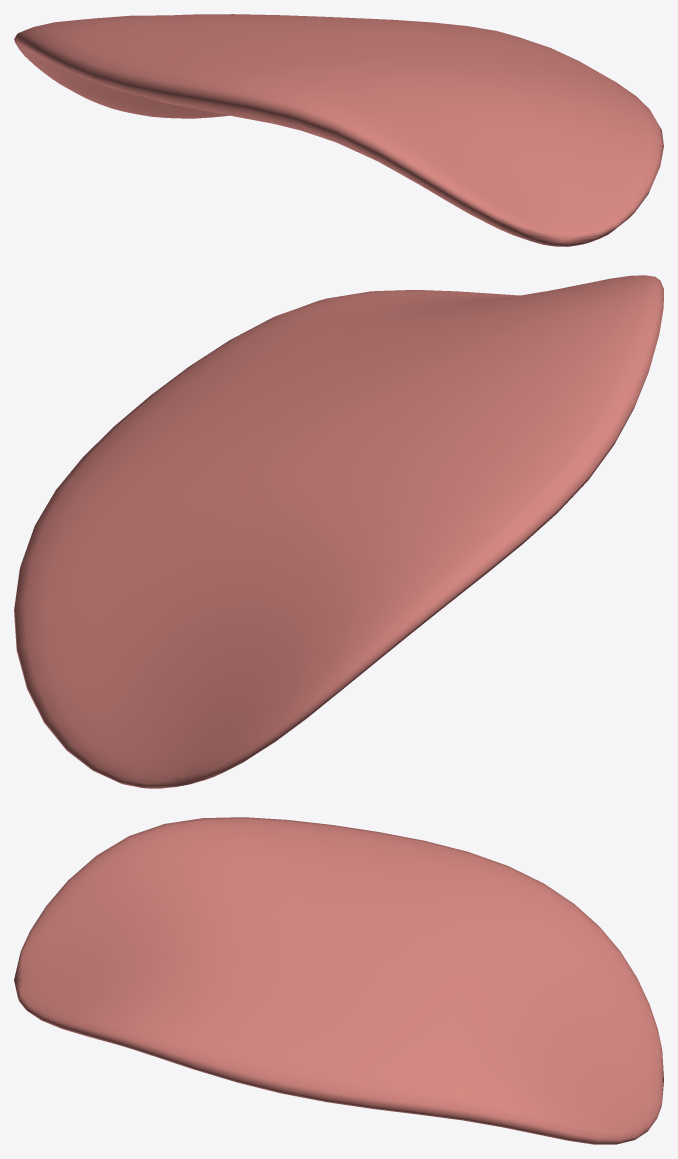
3 renders of one model, top to bottom at view 1: azimuth 30°, elevation 25°; view 2: azimuth 150°, elevation 25°; view 3: azimuth 270°, elevation 25°, orthographic. The views are drawn at different scales.
Visible parts, largest first — view 1: ZA_316f41f3e03480c2; view 2: ZA_316f41f3e03480c2; view 3: ZA_316f41f3e03480c2.
Boxes of the visible parts, bbox=[...] form: ZA_316f41f3e03480c2: bbox=[14, 14, 663, 246]; ZA_316f41f3e03480c2: bbox=[14, 275, 663, 788]; ZA_316f41f3e03480c2: bbox=[14, 817, 663, 1144].
Size of the model in its own units: 0.0302 by 0.0168 by 0.0444.
